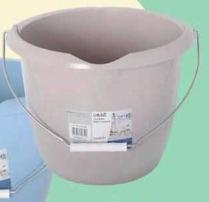SEAU: (0, 5, 204, 190)
